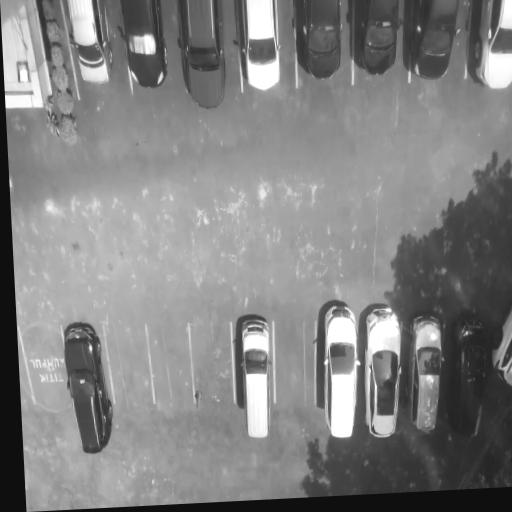Car: (61, 307, 114, 461), (314, 300, 361, 444), (362, 304, 406, 447), (176, 0, 228, 117), (235, 311, 278, 448), (448, 309, 491, 445), (59, 0, 114, 99), (410, 314, 451, 439), (118, 0, 169, 98), (234, 0, 283, 94), (291, 0, 344, 86), (408, 0, 458, 90), (353, 0, 402, 91), (465, 0, 512, 88), (485, 296, 512, 403)
Space Available: (24, 323, 70, 435), (271, 304, 315, 418), (190, 312, 235, 418), (149, 317, 193, 424), (106, 317, 150, 423)
